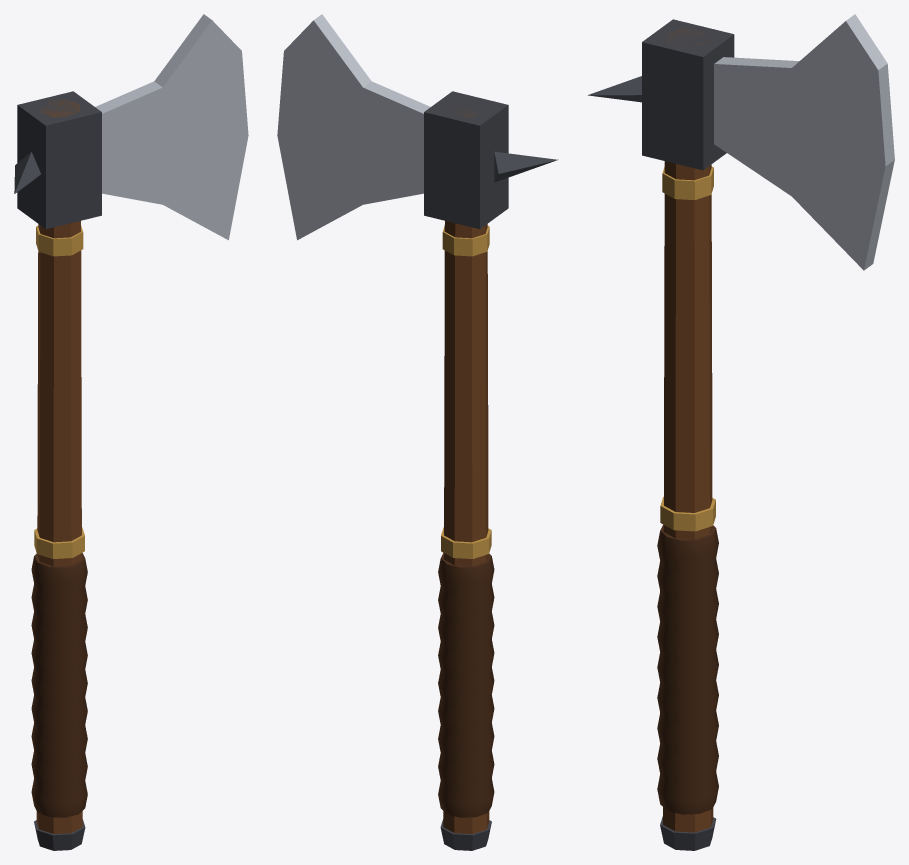
Rendered from throwing_axe.glb.
3 renders of one model, left to right at view 1: azimuth 30°, elevation 25°; view 2: azimuth 150°, elevation 25°; view 3: azimuth 330°, elevation 25°, orthographic. The views are drawn at different scales.
Visible parts, largest first — view 1: ThrowingAxe_Head, ThrowingAxe_Haft, ThrowingAxe_Grip, ThrowingAxe_Fittings, ThrowingAxe_Bands; view 2: ThrowingAxe_Head, ThrowingAxe_Haft, ThrowingAxe_Grip, ThrowingAxe_Fittings, ThrowingAxe_Bands; view 3: ThrowingAxe_Head, ThrowingAxe_Haft, ThrowingAxe_Grip, ThrowingAxe_Fittings, ThrowingAxe_Bands.
Part boxes in pixels (<box>): ThrowingAxe_Head: <box>95,14,248,240</box>; ThrowingAxe_Haft: <box>36,100,82,833</box>; ThrowingAxe_Grip: <box>31,553,87,817</box>; ThrowingAxe_Fittings: <box>14,91,101,850</box>; ThrowingAxe_Bands: <box>34,225,84,558</box>; ThrowingAxe_Head: <box>277,14,430,240</box>; ThrowingAxe_Haft: <box>443,102,489,833</box>; ThrowingAxe_Grip: <box>438,553,494,817</box>; ThrowingAxe_Fittings: <box>424,91,558,850</box>; ThrowingAxe_Bands: <box>441,226,491,558</box>; ThrowingAxe_Head: <box>714,14,894,270</box>; ThrowingAxe_Haft: <box>663,28,713,832</box>; ThrowingAxe_Grip: <box>657,524,718,814</box>; ThrowingAxe_Fittings: <box>588,19,734,850</box>; ThrowingAxe_Bands: <box>660,166,715,531</box>.
Size of the model in its own units: 0.1537 by 0.462 by 0.0397.
